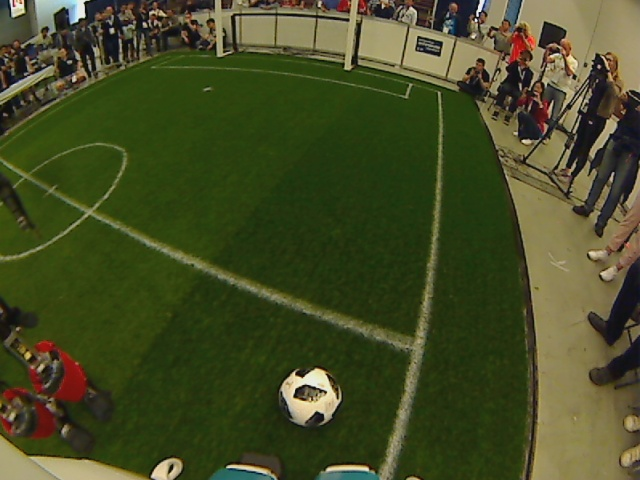ball: (278, 362, 345, 432)
